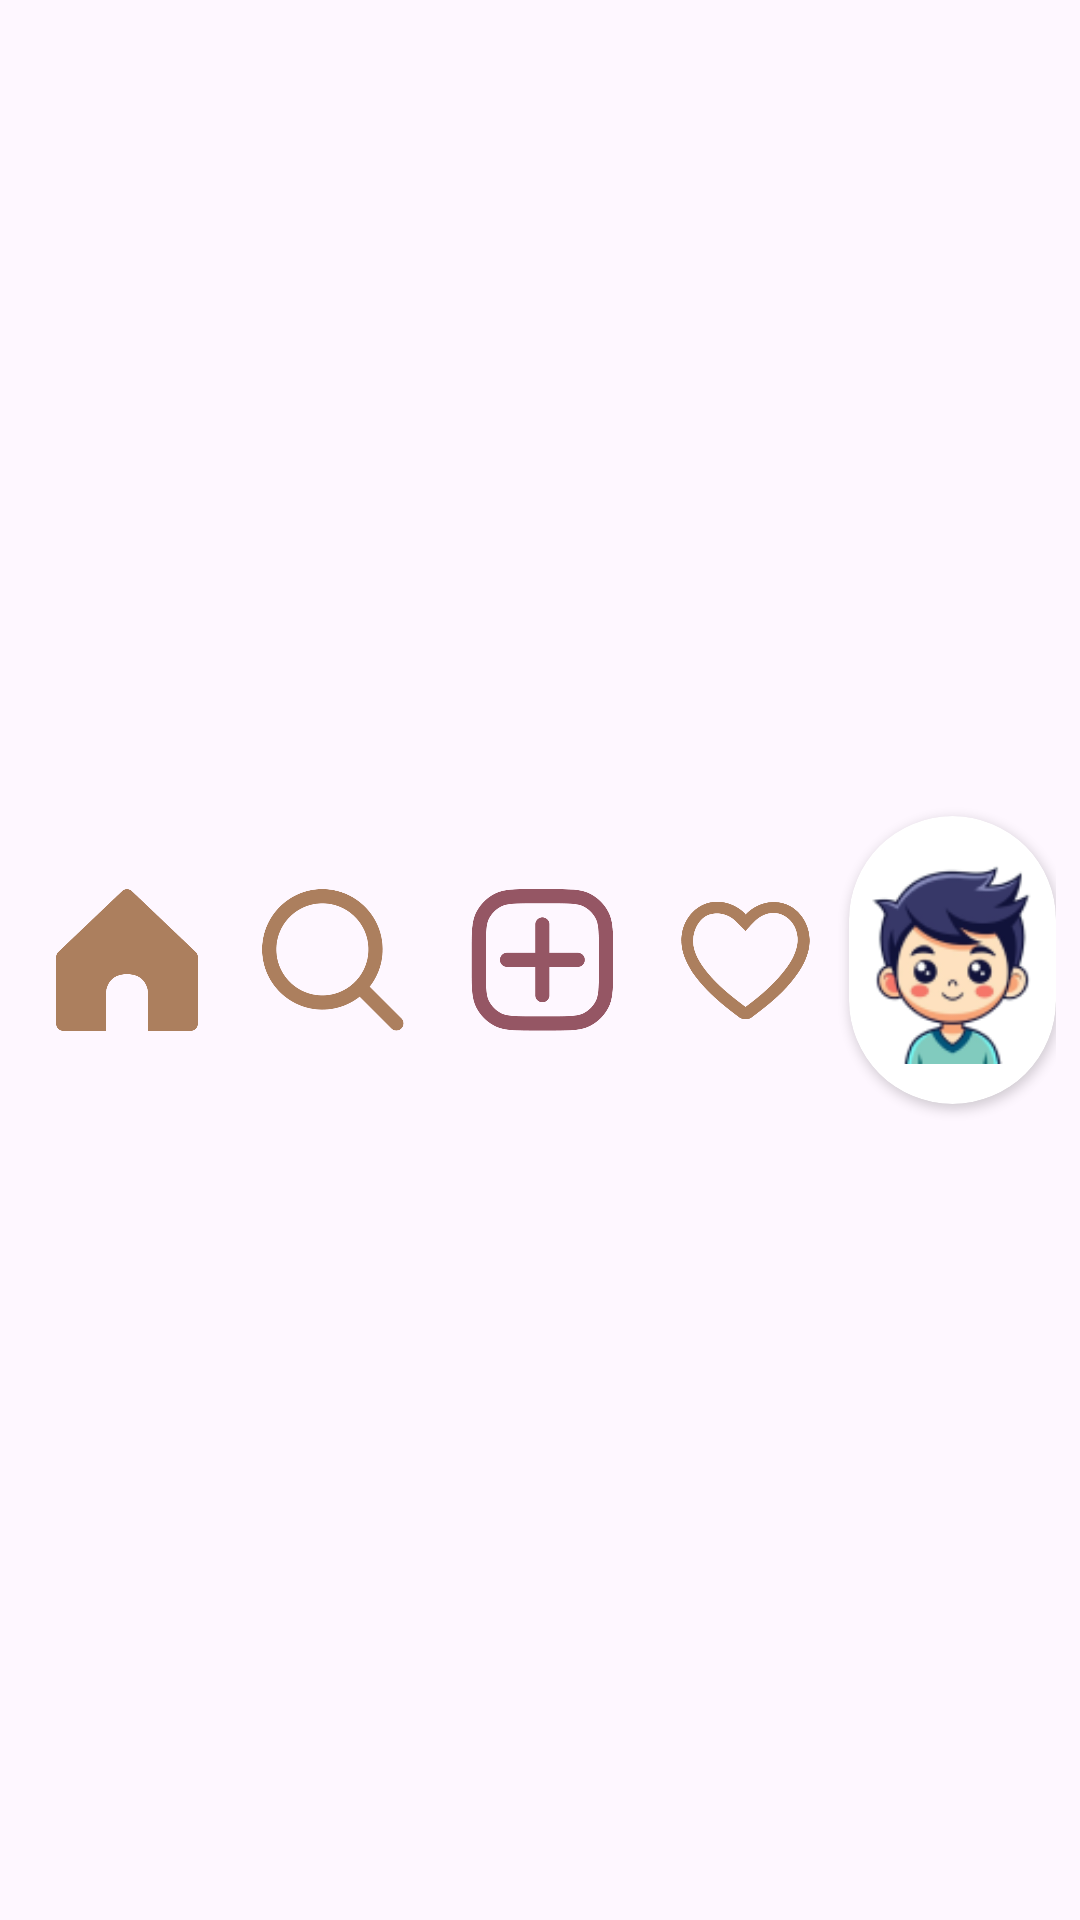

Icons on this 1080px x 1920px Android screen, each with the point to tap as [x,y]:
Add: [542,960]
Favorite: [745,960]
Home: [127,960]
Search: [333,960]
